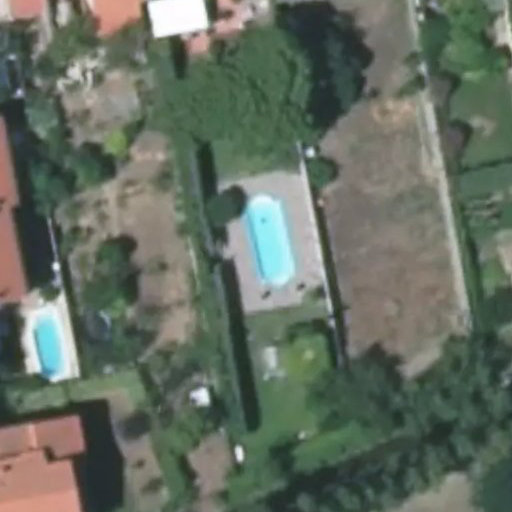pool: (231, 202, 280, 281)
